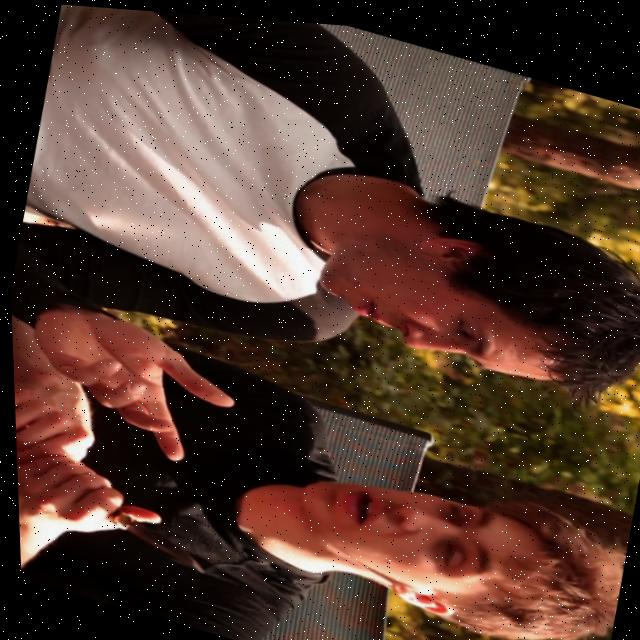knife: (97, 498, 218, 580)
